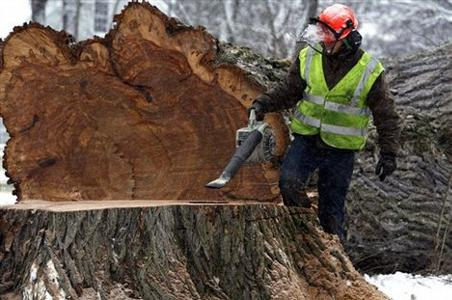person: (245, 4, 399, 244)
